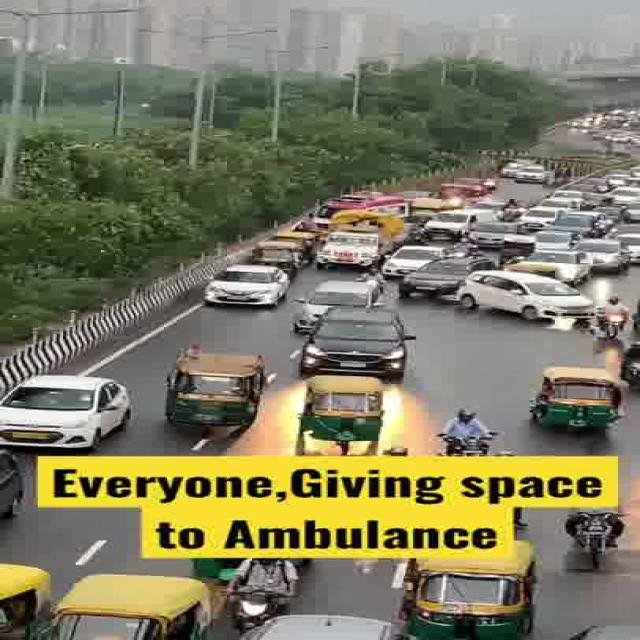ambulance: (312, 194, 412, 214)
